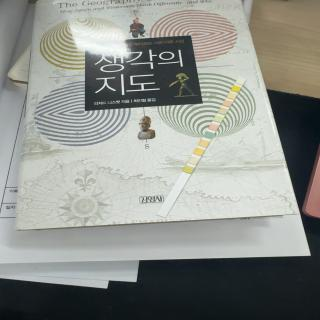mark: (184, 166, 193, 173), (194, 148, 203, 155), (205, 132, 214, 139), (190, 157, 198, 164), (200, 140, 208, 147), (219, 108, 227, 115), (210, 124, 218, 130), (223, 100, 231, 106), (232, 86, 240, 92), (215, 116, 222, 122), (228, 93, 235, 99), (238, 79, 244, 84)
